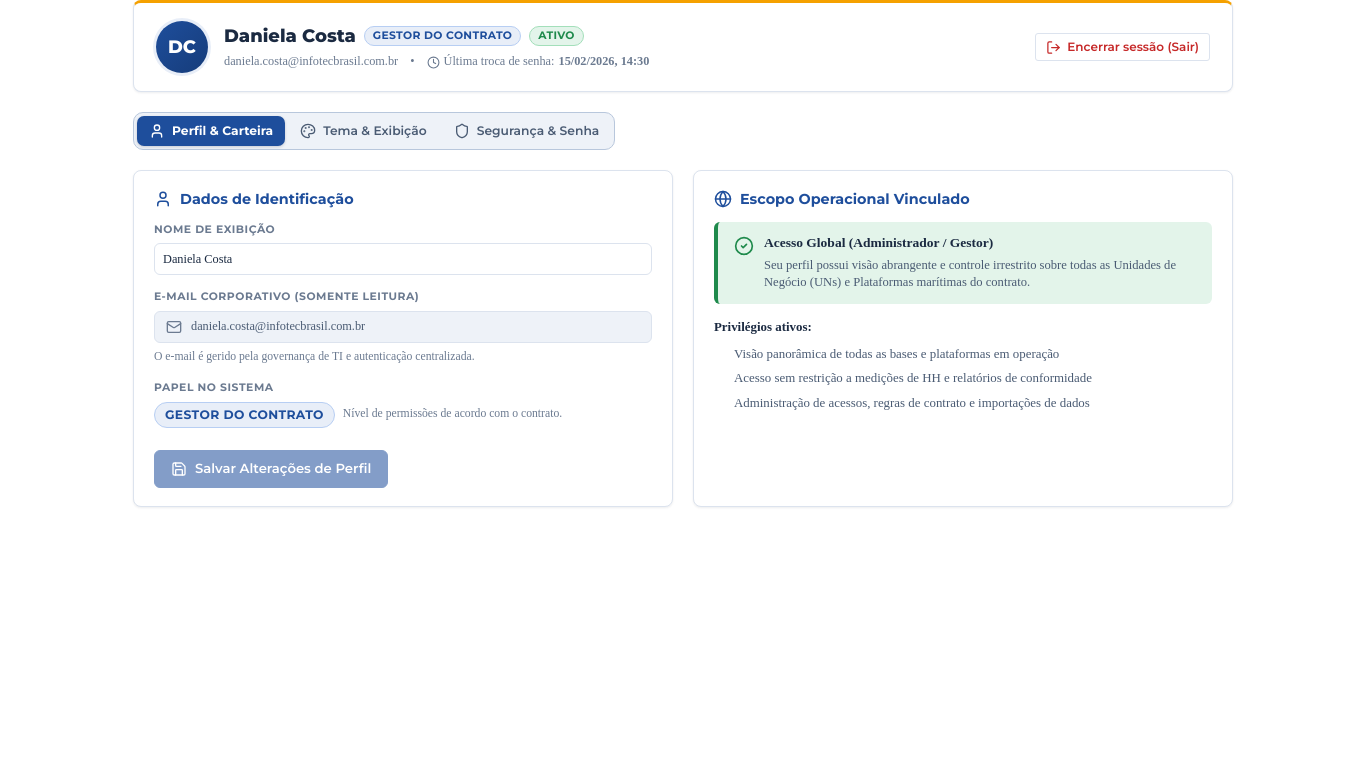
UserSettingsView (Central de Preferências do Usuário) › Aba 1: Perfil & Carteira › permite editar o nome de exibição e submeter alterações para persistência
Expected: the field labelled "E-mail corporativo (somente leitura)" is disabled, [154, 311, 652, 343]
Expected: the button "Salvar Alterações de Perfil" is disabled, [154, 450, 388, 488]
# Altera o nome
Replace the text in the field labelled "Nome de exibição" with "Daniela Costa Ferreira" at (403, 259), box [154, 243, 652, 275]
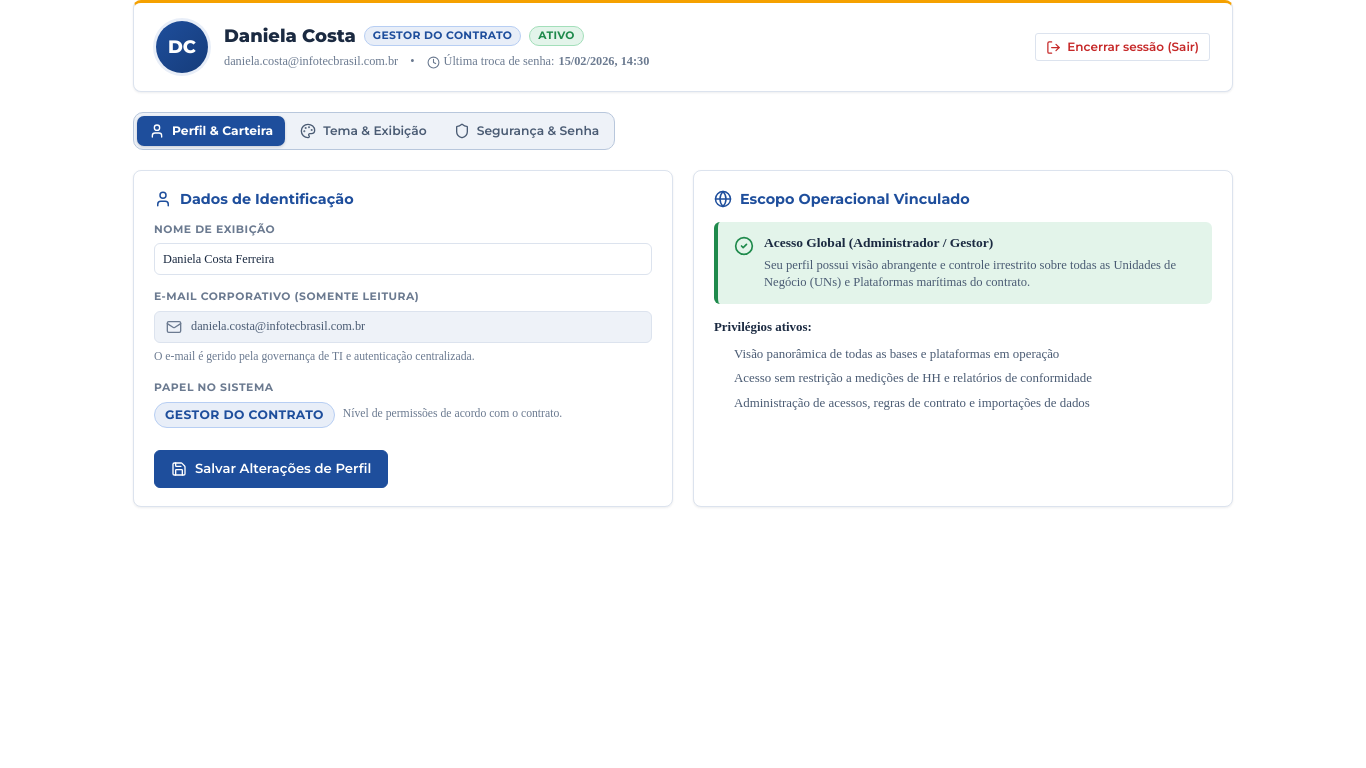
Now the button "Salvar Alterações de Perfil" is enabled, box [154, 450, 388, 488]
Submit the form, box [154, 222, 652, 488]
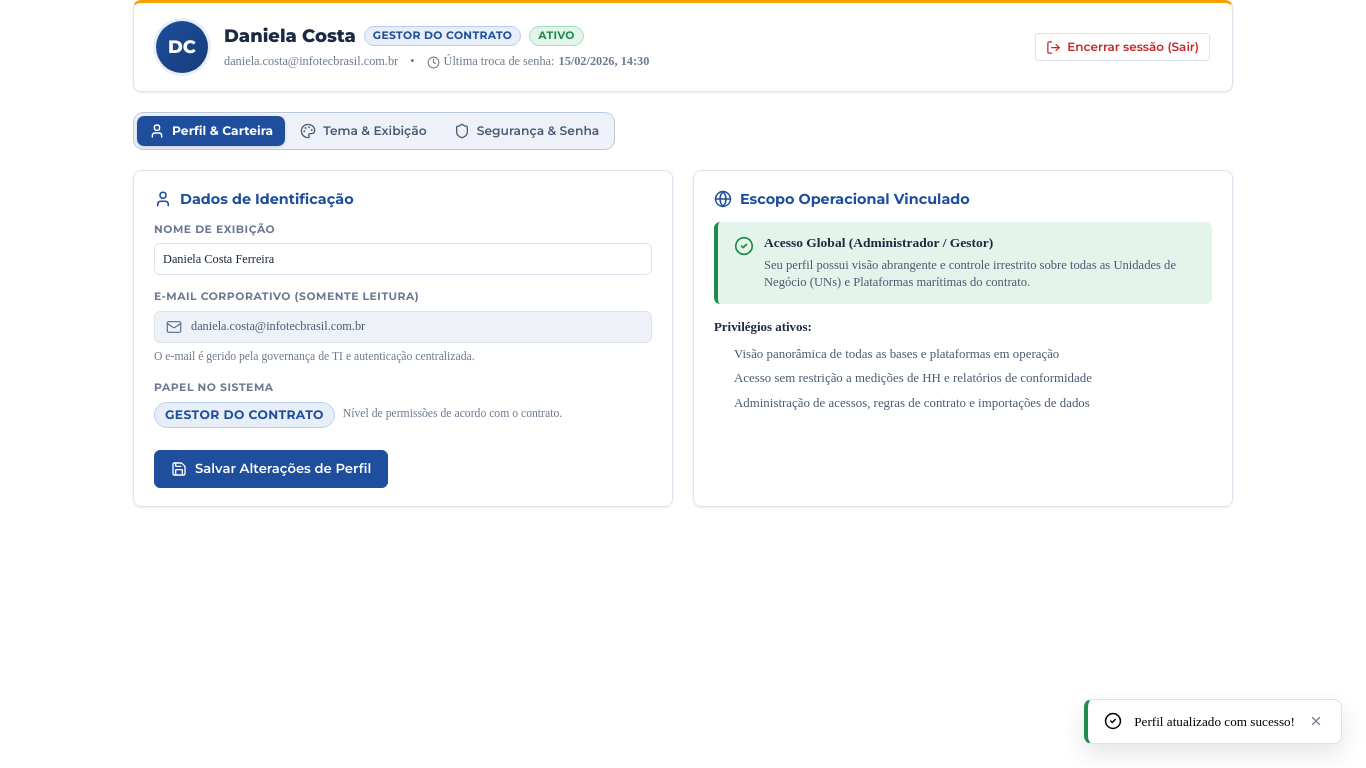
Now the text "Perfil atualizado com sucesso!" is shown, box [1134, 712, 1295, 731]
